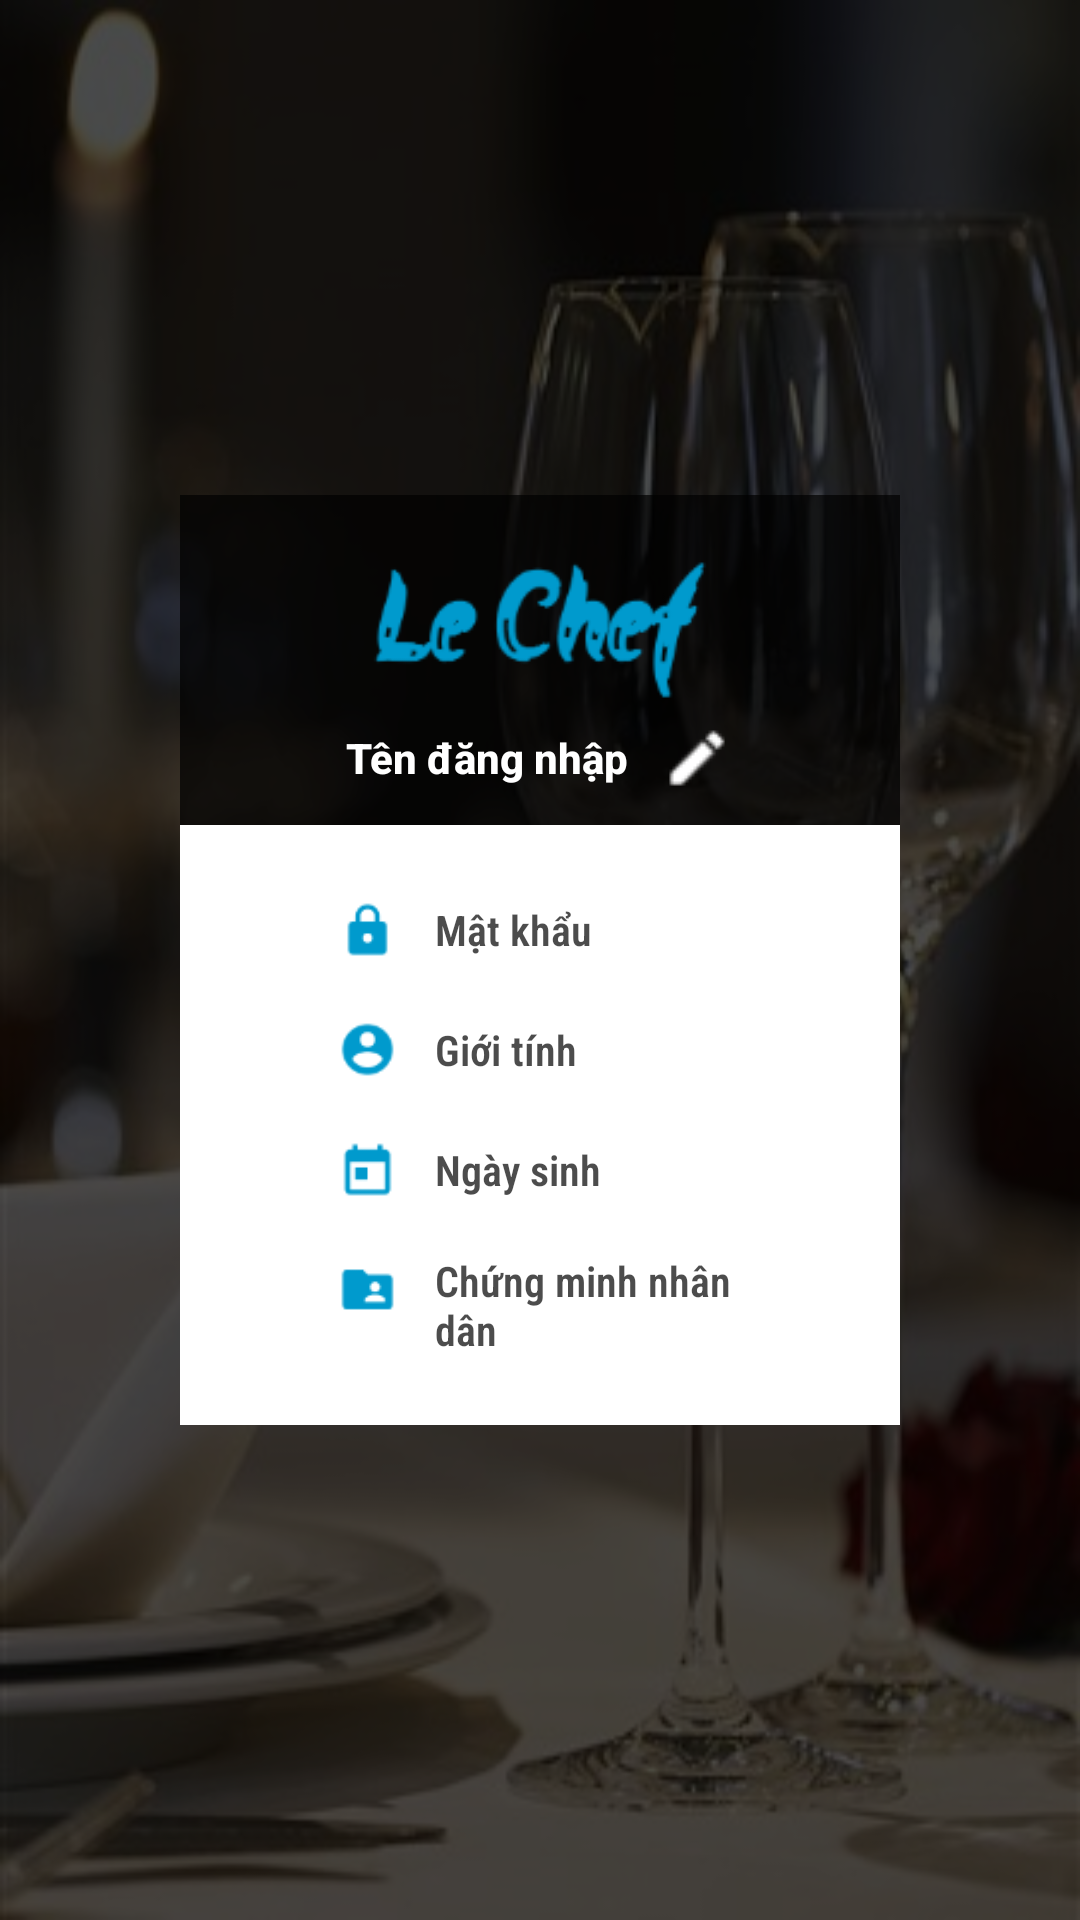

Locate icon controls on the screen. Image size 1080 x 1920, boxes as (x1=x1, y1=y1, x2=x2, y2=y2).
edit: (x1=669, y1=730, x2=725, y2=786)
imformation matkhau: (x1=347, y1=903, x2=388, y2=956)
information calender: (x1=343, y1=1143, x2=392, y2=1196)
information id: (x1=341, y1=1269, x2=394, y2=1310)
